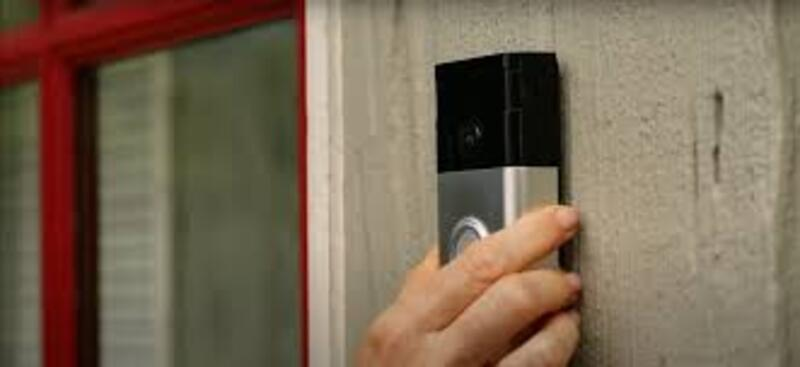doorbell: (421, 42, 570, 348)
